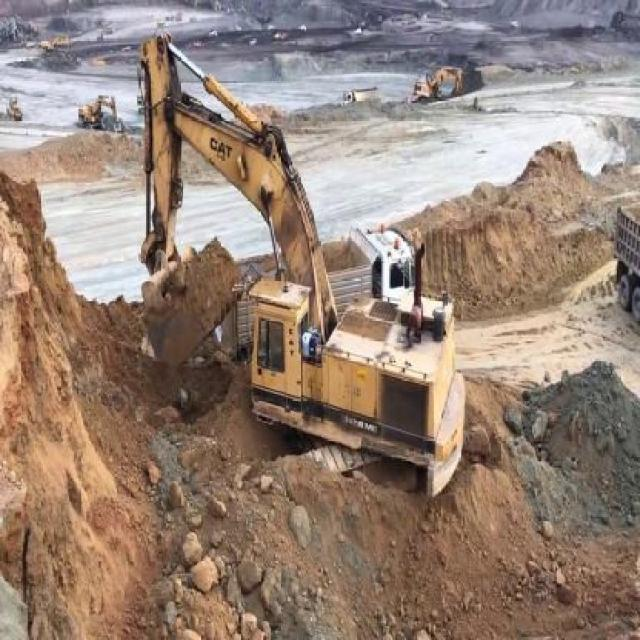dump_truck: (328, 219, 414, 303), (342, 87, 378, 102)
excavator: (133, 23, 465, 494), (411, 62, 463, 104), (72, 95, 117, 130)
